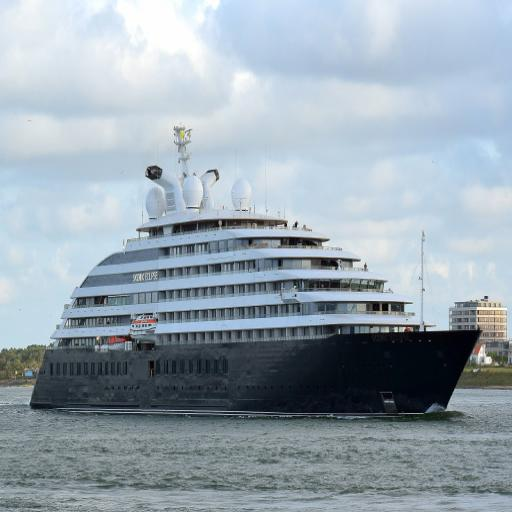cruises: (27, 114, 485, 429)
